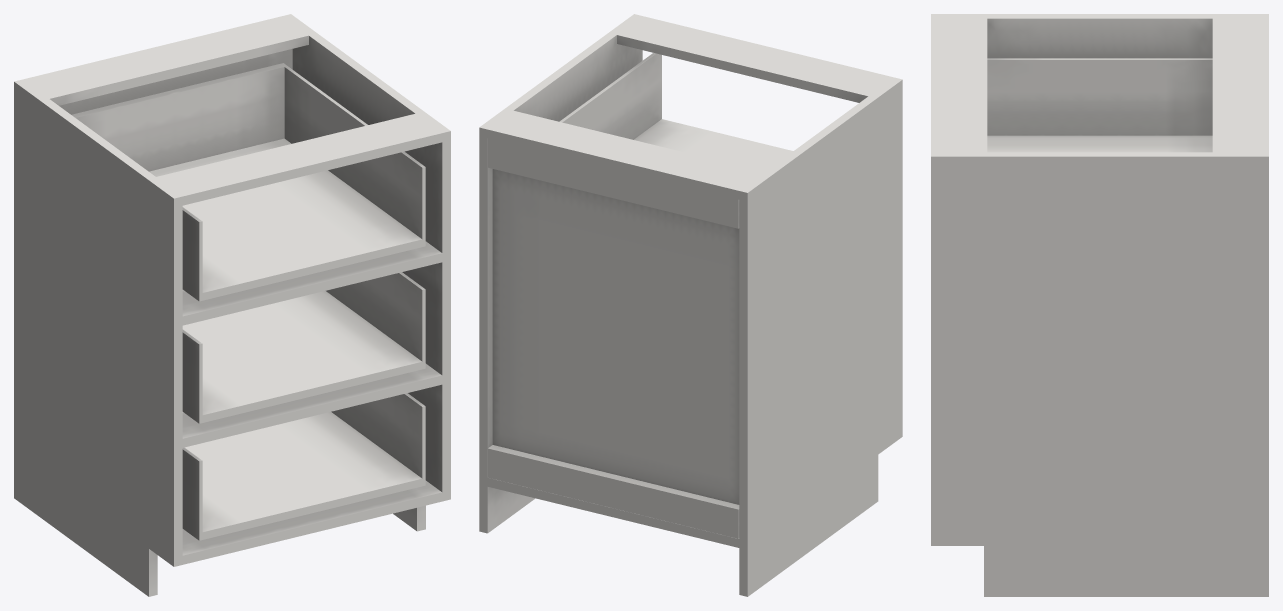
Rendered from 3-drawer-equal-base-doors-off.glb.
3 views of the same model, side by side, from view 1: azimuth 30°, elevation 25°; view 2: azimuth 150°, elevation 25°; view 3: azimuth 270°, elevation 25° (orthographic). The views are drawn at different scales.
Parts seen in each view (by area): view 1: part_0, part_2; view 2: part_0, part_2; view 3: part_0, part_2.
Part boxes in pixels (<box>): part_0: <box>14,14,450,596</box>; part_2: <box>71,63,425,540</box>; part_0: <box>479,14,902,596</box>; part_2: <box>559,53,793,171</box>; part_0: <box>931,14,1268,596</box>; part_2: <box>987,58,1212,152</box>.
Bounding box in the file's own units: 0.6096 × 0.8763 × 0.6096.
Materials: 2 (1 with a texture image).
